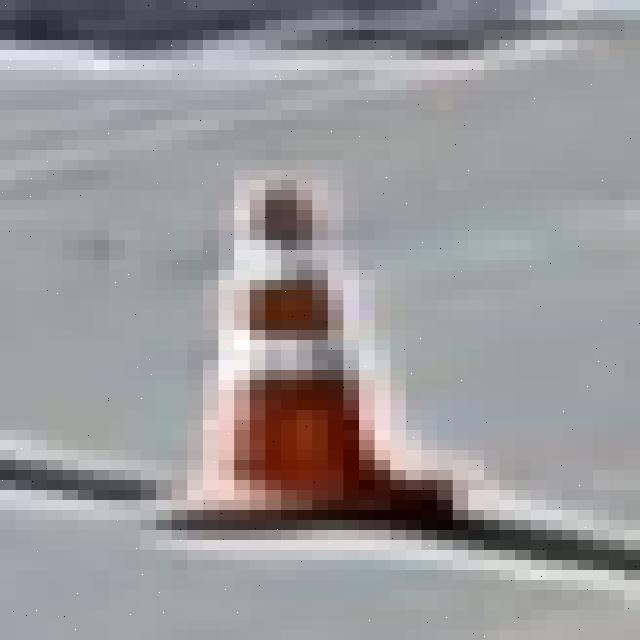small_cone: (187, 170, 453, 530)
